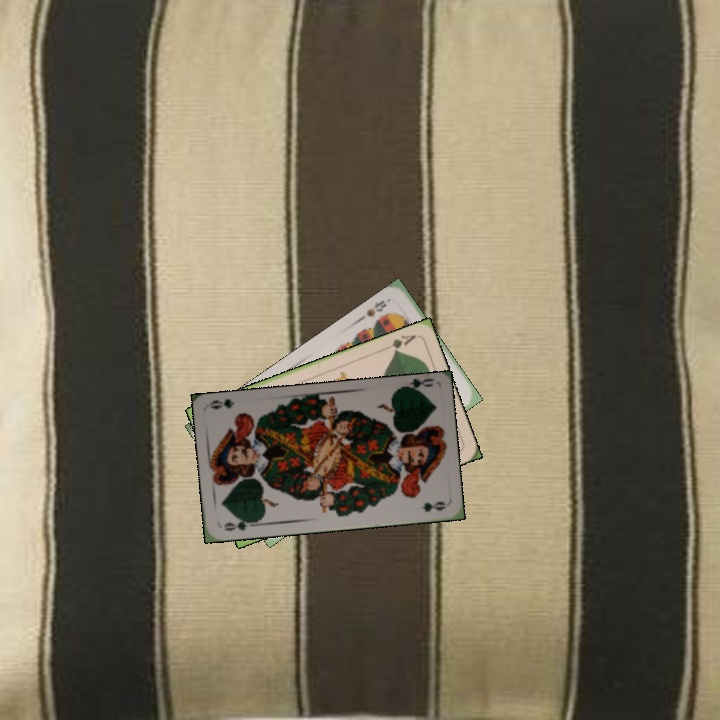GA: (380, 331, 419, 355)
GO: (395, 376, 436, 397), (220, 515, 259, 534)
S8: (357, 296, 389, 322)
